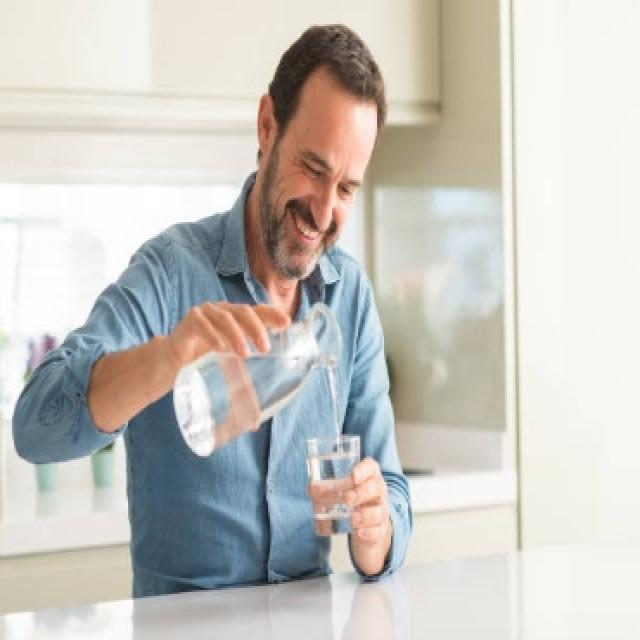adult: (20, 23, 429, 578)
